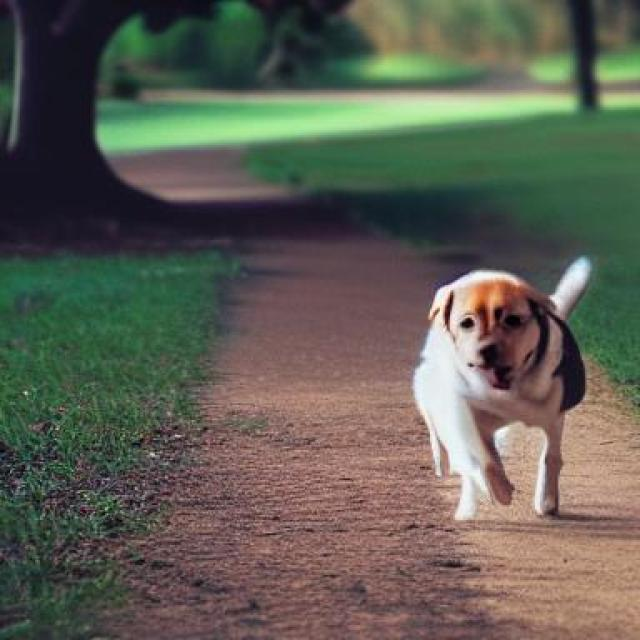Dog: (413, 258, 593, 520)
